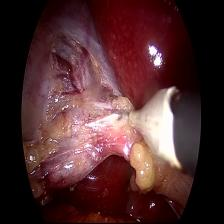Hook: (114, 86, 186, 167)
